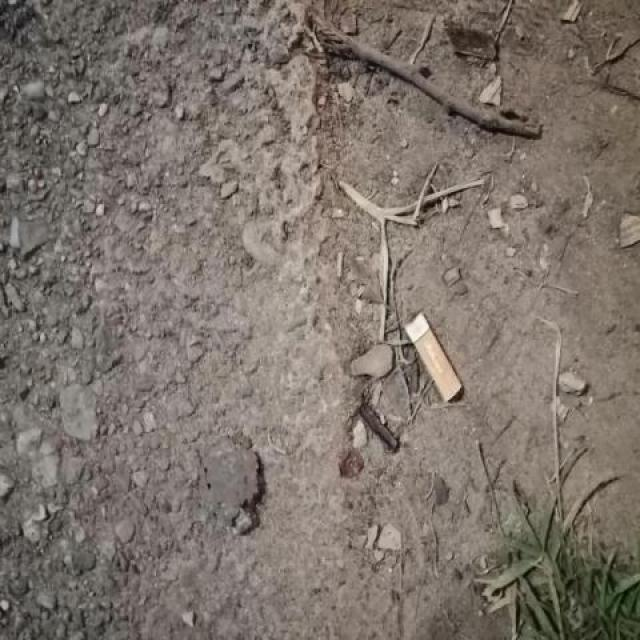non-organic waste: (400, 310, 468, 407)
